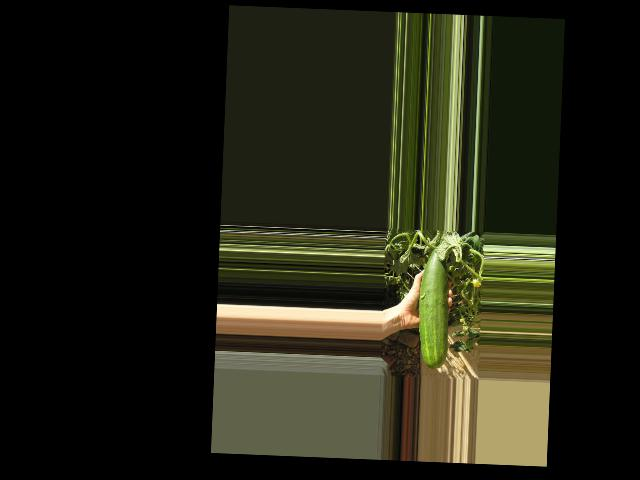cucumber: (416, 246, 451, 369)
